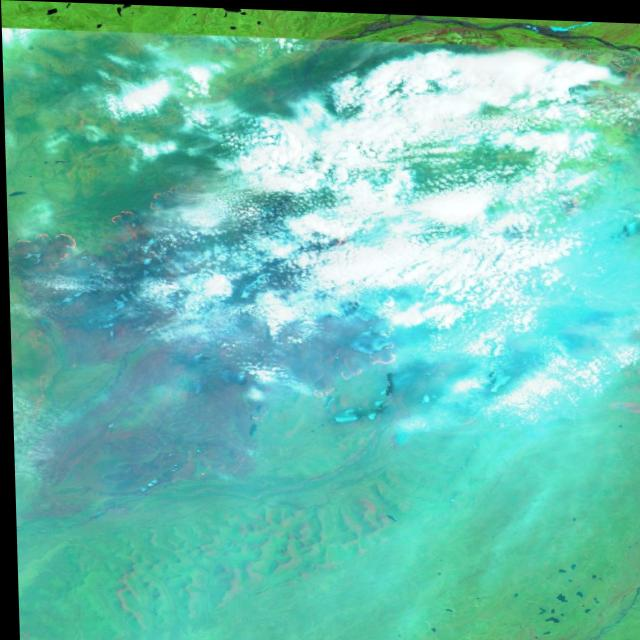fire: (6, 159, 196, 281), (301, 294, 413, 410), (542, 170, 605, 225)
